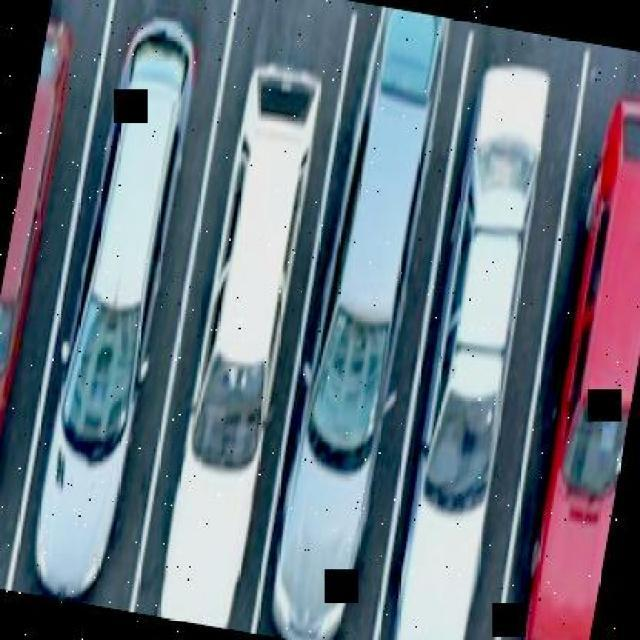car: (43, 11, 223, 602), (388, 149, 570, 623), (283, 39, 446, 546), (172, 86, 328, 592), (515, 191, 640, 637), (0, 24, 75, 480)
